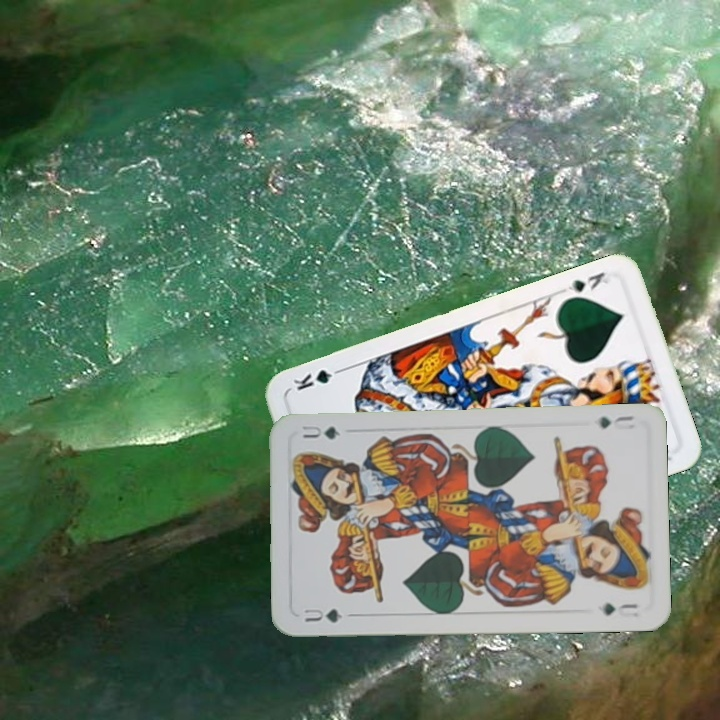GK: (558, 267, 612, 295)
GU: (298, 604, 345, 625), (596, 411, 637, 431)
